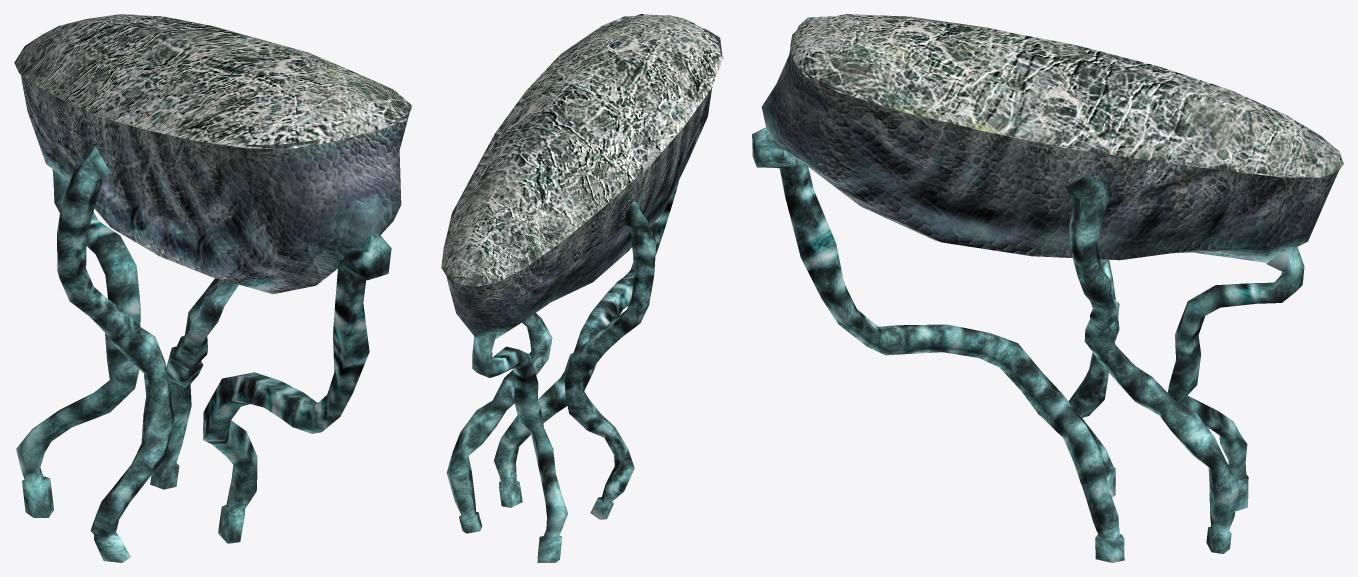
The model's file is Cocoons.fbx.
3 views of the same model, side by side, from view 1: azimuth 30°, elevation 25°; view 2: azimuth 150°, elevation 25°; view 3: azimuth 270°, elevation 25° (orthographic). The views are drawn at different scales.
Parts seen in each view (by area): view 1: Cocoons_Cocoon_158; view 2: Cocoons_Cocoon_158; view 3: Cocoons_Cocoon_158.
Boxes of the visible parts, x1,y1,x2,y2 form: Cocoons_Cocoon_158: (14, 14, 412, 562); Cocoons_Cocoon_158: (441, 14, 723, 562); Cocoons_Cocoon_158: (752, 14, 1343, 562).
Bounding box in the file's own units: 240 × 498 × 527.
